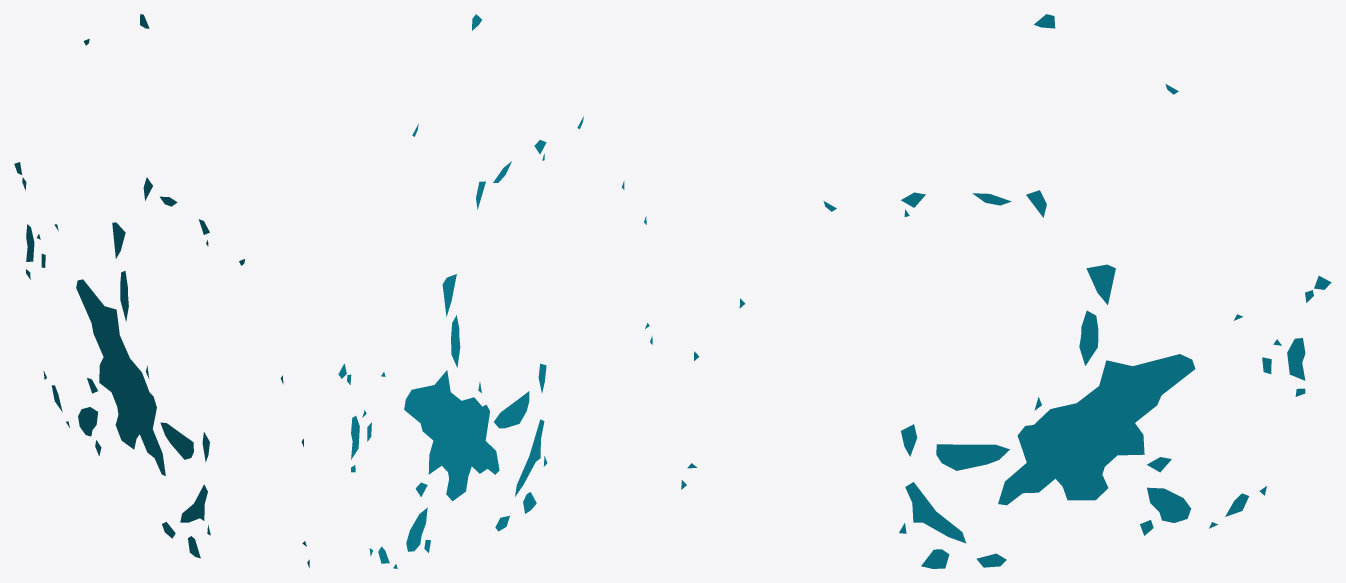
File: galaxymapborders.dae
3 renders of one model, left to right at view 1: azimuth 30°, elevation 25°; view 2: azimuth 150°, elevation 25°; view 3: azimuth 270°, elevation 25°, orthographic. The views are drawn at different scales.
Visible parts, largest first — view 1: MULT[GalaxymapBorders]_LOD[0]; view 2: MULT[GalaxymapBorders]_LOD[0]; view 3: MULT[GalaxymapBorders]_LOD[0].
Boxes of the visible parts, left/top/right/bottom form: MULT[GalaxymapBorders]_LOD[0]: left=14, top=14, right=309, bottom=567; MULT[GalaxymapBorders]_LOD[0]: left=338, top=14, right=652, bottom=568; MULT[GalaxymapBorders]_LOD[0]: left=681, top=14, right=1331, bottom=568.
Size of the model in its own units: 2.4e-05 by 2718 by 2886.
